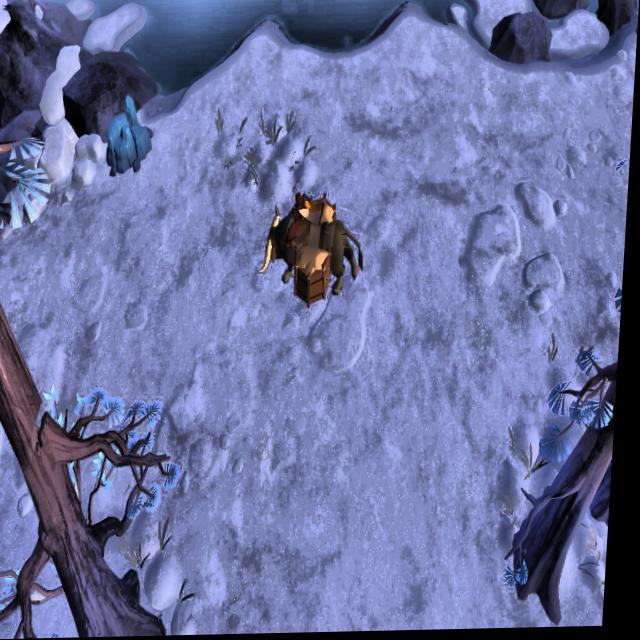rock_t4: (106, 93, 162, 180)
